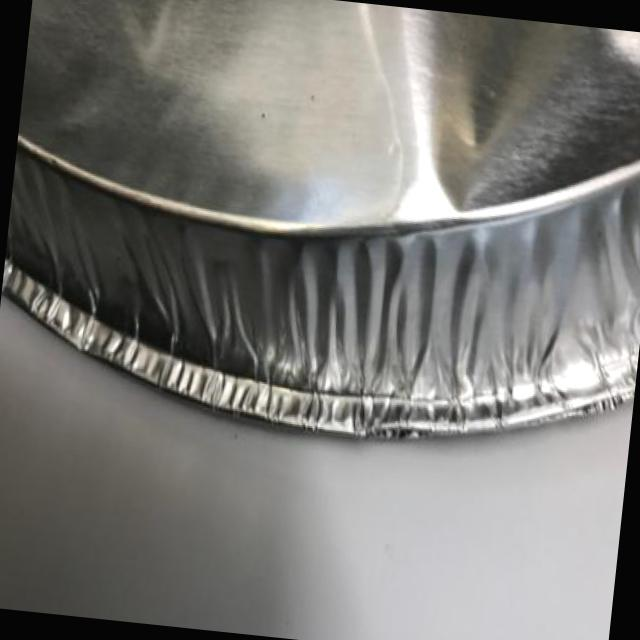nhom: (1, 0, 640, 445)
